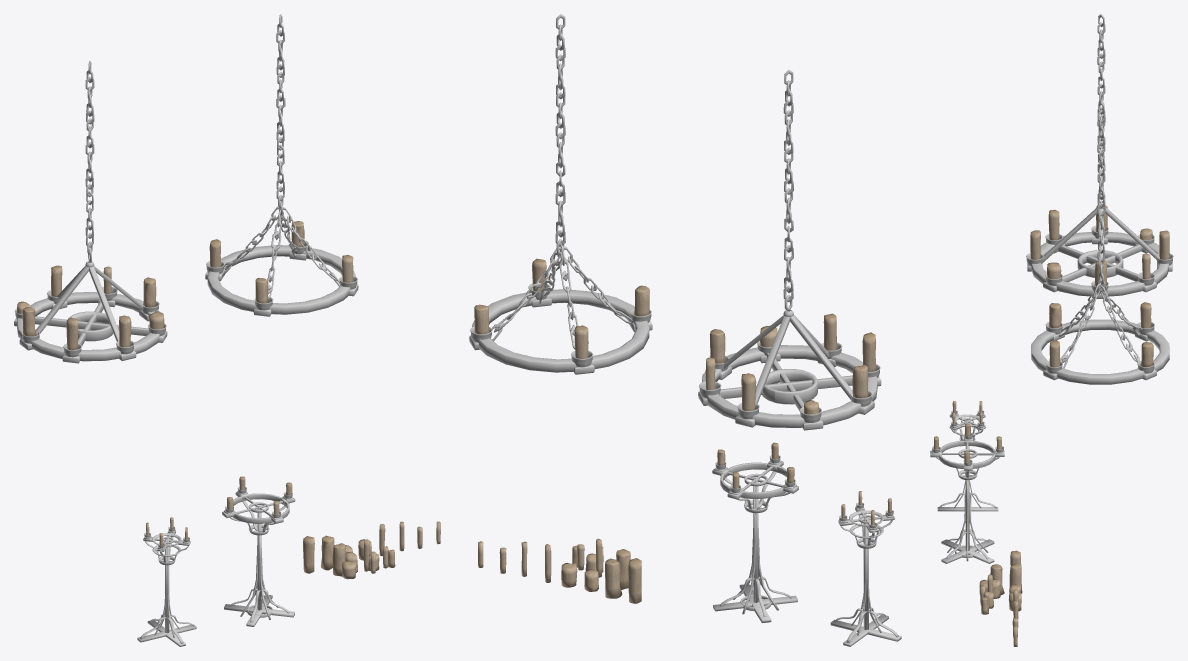
The model's file is Chandeliers and Candles 1A1.fbx.
3 views of the same model, side by side, from view 1: azimuth 30°, elevation 25°; view 2: azimuth 150°, elevation 25°; view 3: azimuth 270°, elevation 25° (orthographic). The views are drawn at different scales.
Parts seen in each view (by area): view 1: Chandelier 1A1, Chandelier 1A2, Candelabra 1A1, Candelabra 1A2, Candle Group 1A1; view 2: Chandelier 1A1, Chandelier 1A2, Candelabra 1A1, Candelabra 1A2, Candle 1A2; view 3: Chandelier 1A1, Chandelier 1A2, Candelabra 1A1, Candelabra 1A2, Candle Group 1A1.
Part boxes in pixels (box(x1,y1,x2,y2)): Chandelier 1A1: box(14, 61, 167, 363); Chandelier 1A2: box(205, 14, 358, 316); Candelabra 1A1: box(222, 476, 295, 626); Candelabra 1A2: box(137, 517, 196, 646); Candle Group 1A1: box(332, 543, 357, 579); Chandelier 1A1: box(698, 69, 881, 430); Chandelier 1A2: box(469, 14, 652, 374); Candelabra 1A1: box(712, 442, 798, 622); Candelabra 1A2: box(830, 491, 901, 646); Candle 1A2: box(605, 559, 622, 598); Chandelier 1A1: box(1026, 14, 1173, 298); Chandelier 1A2: box(1031, 102, 1169, 384); Candelabra 1A1: box(930, 423, 1004, 563); Candelabra 1A2: box(937, 401, 998, 522); Candle Group 1A1: box(979, 564, 1004, 598).
Size of the model in its own units: 606 by 813 by 363.
